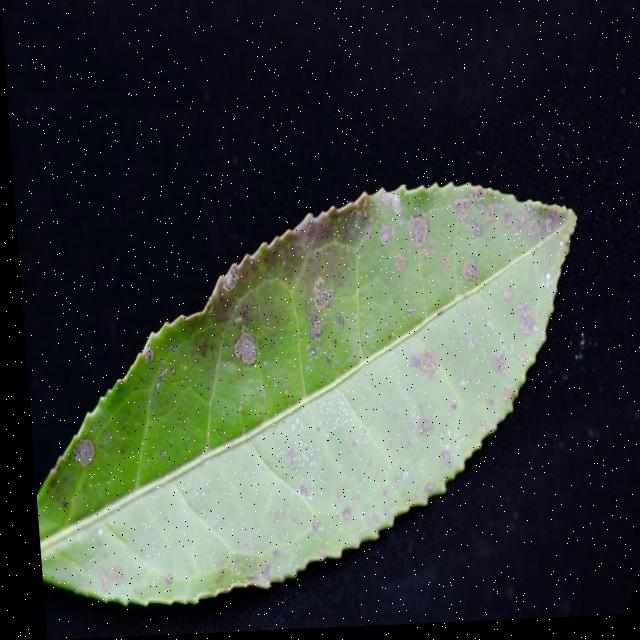Tea red rust: (64, 180, 564, 602)
